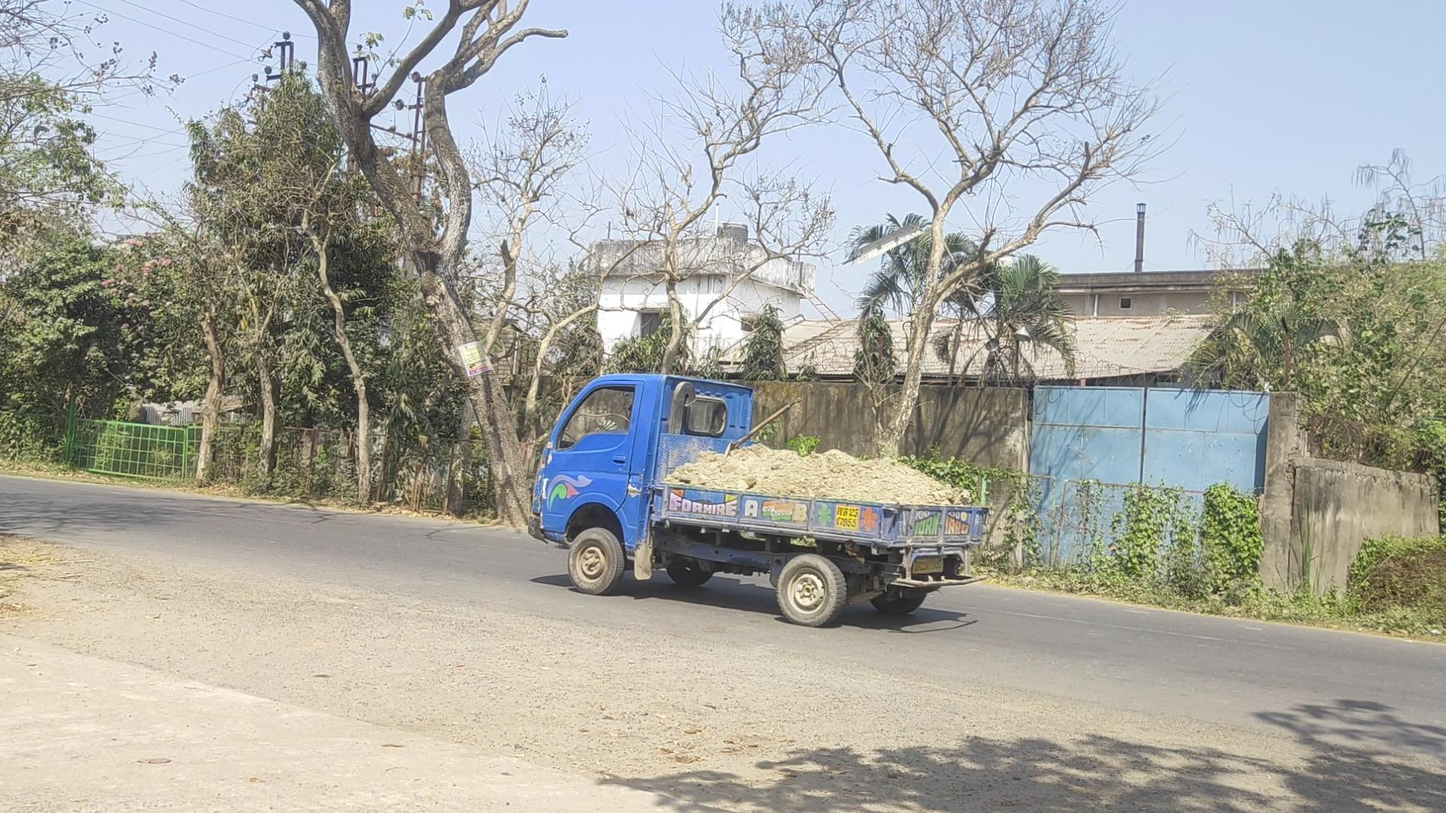van: (529, 373, 987, 628)
